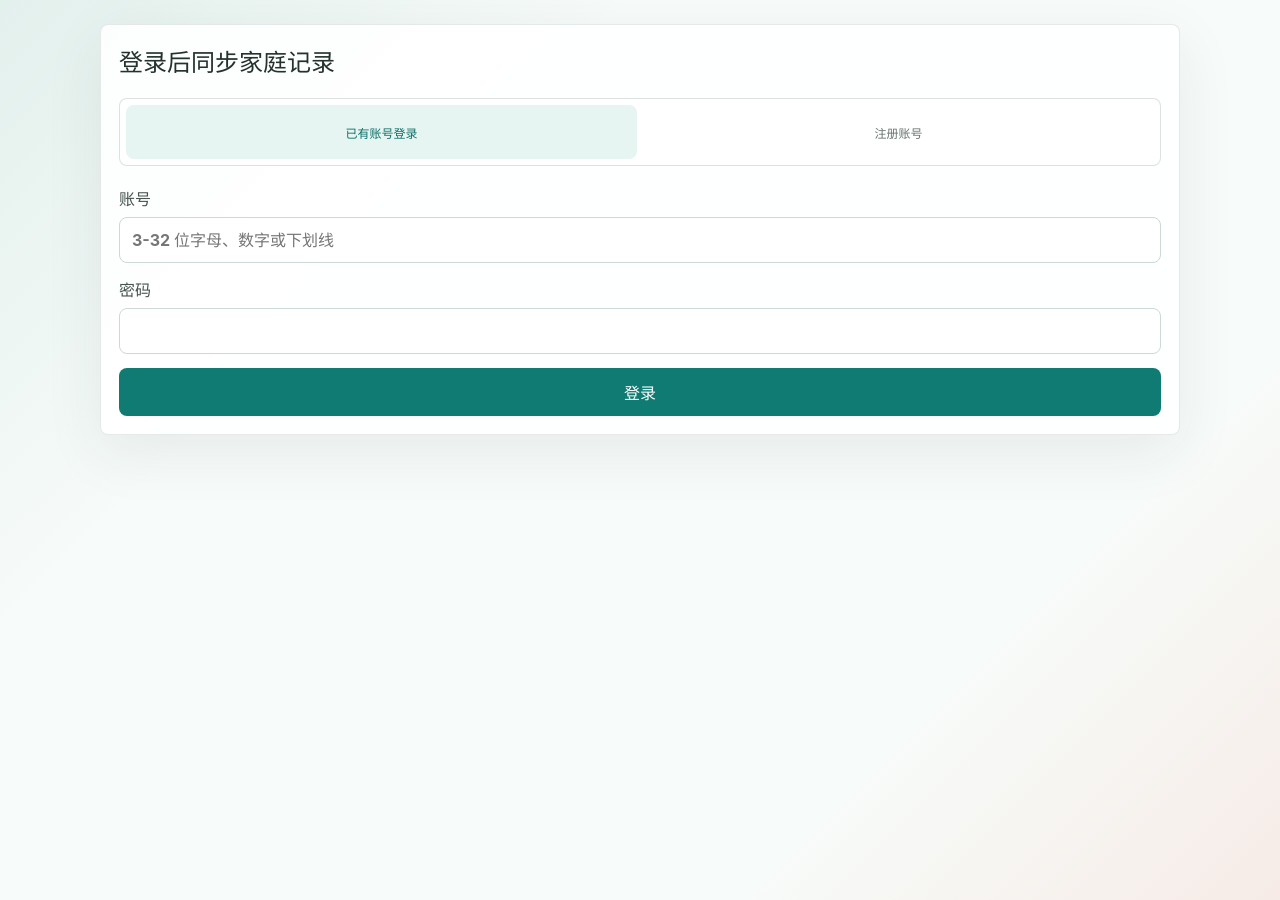
Test: AuthPanel › shows a duplicate account error when registration fails
Step 1. Click the button "注册账号" → (898, 132), box 643,105 -> 1154,159
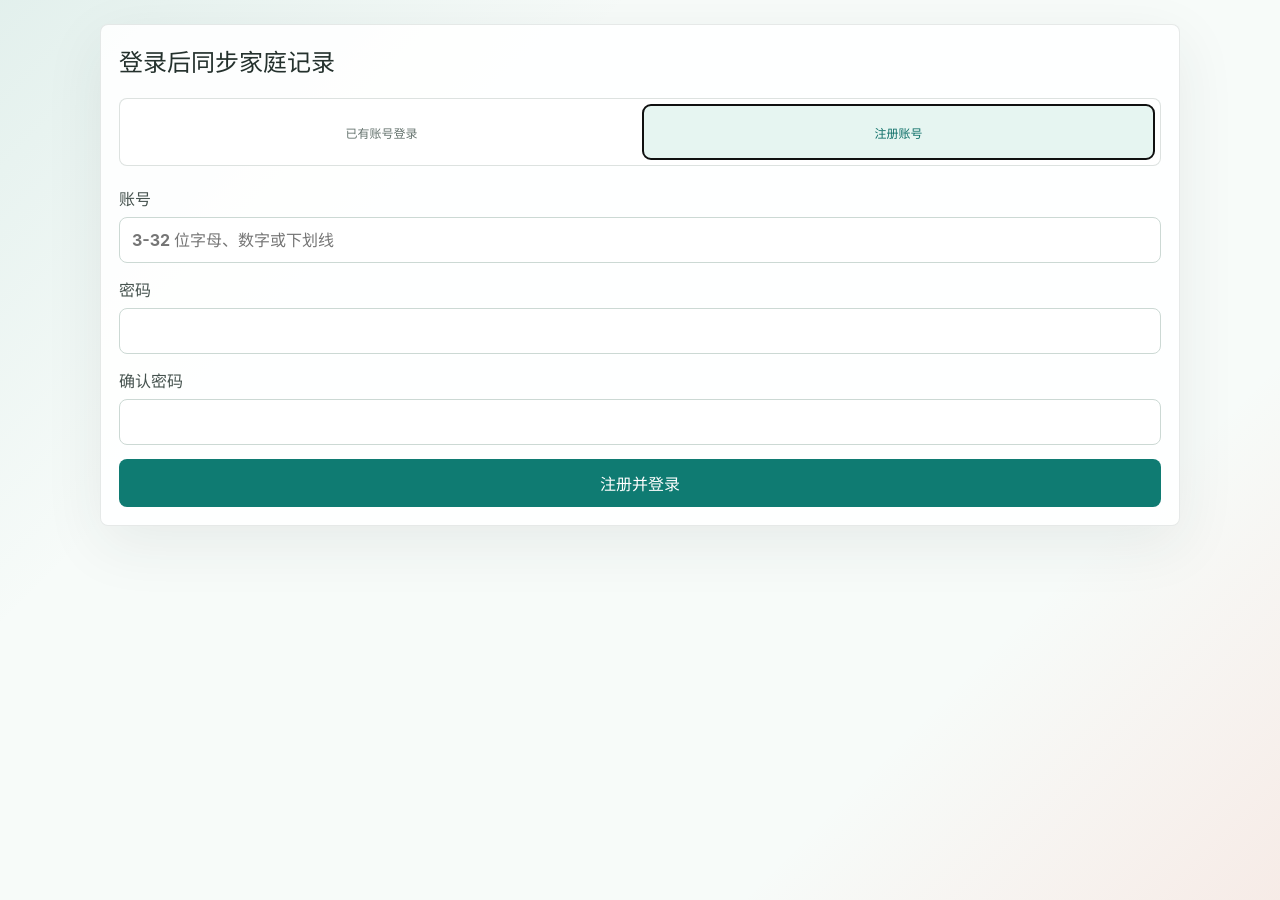
Step 2. Type "baby_home" into the field labelled "账号" → (640, 240), box 119,217 -> 1161,263
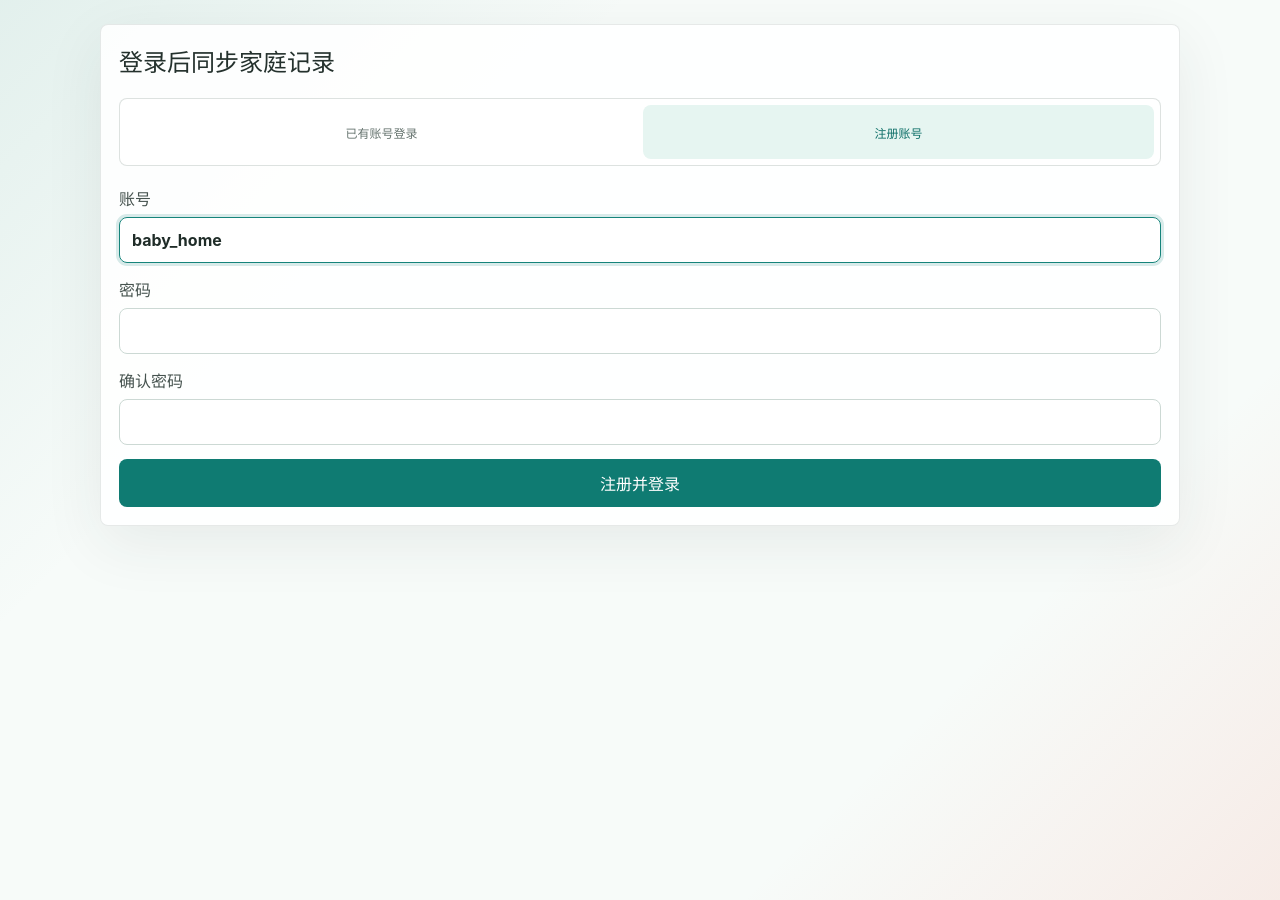
Step 3. Type "password123" into the password field labelled "密码" → (640, 331), box 119,308 -> 1161,354
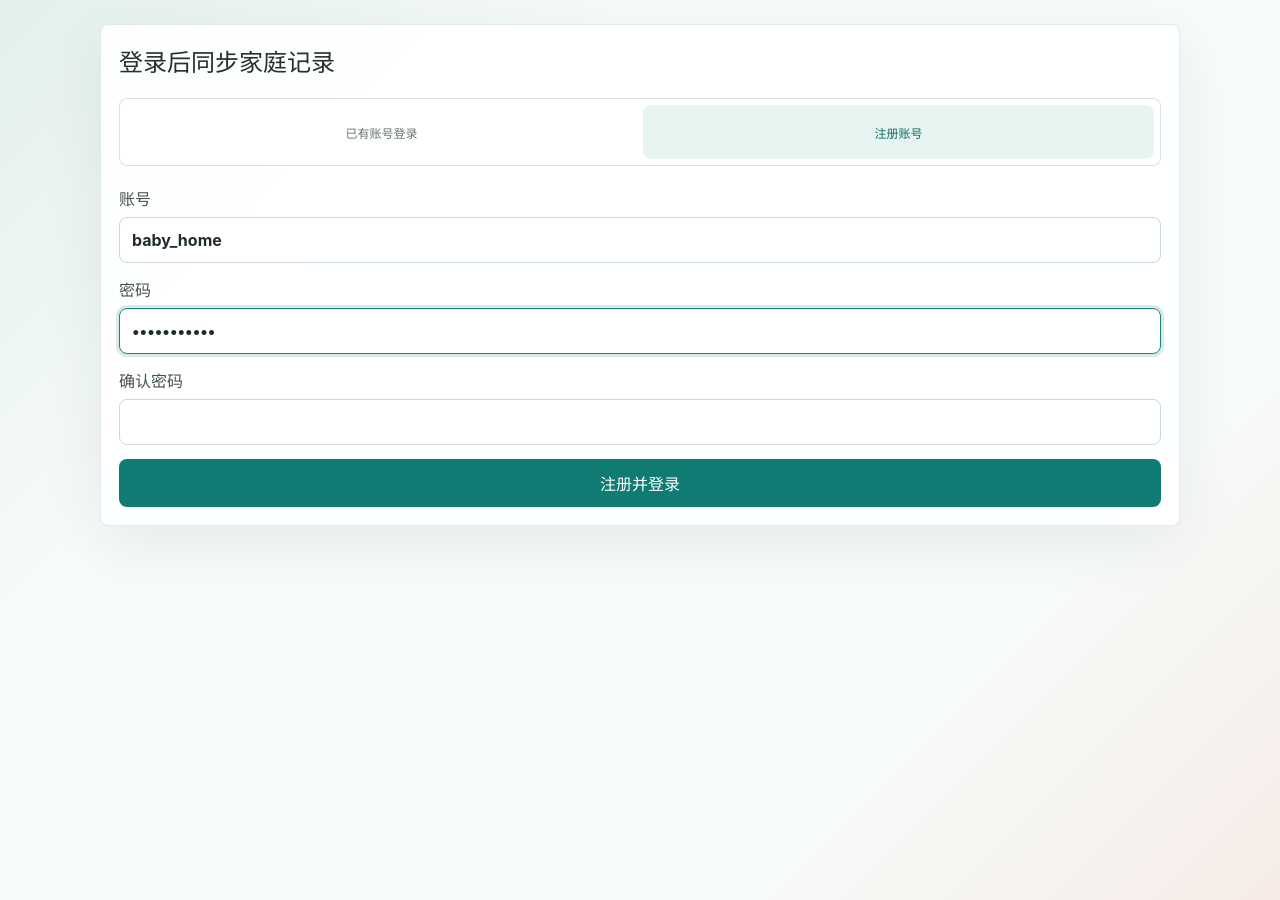
Step 4. Type "password123" into the password field labelled "确认密码" → (640, 422), box 119,399 -> 1161,445
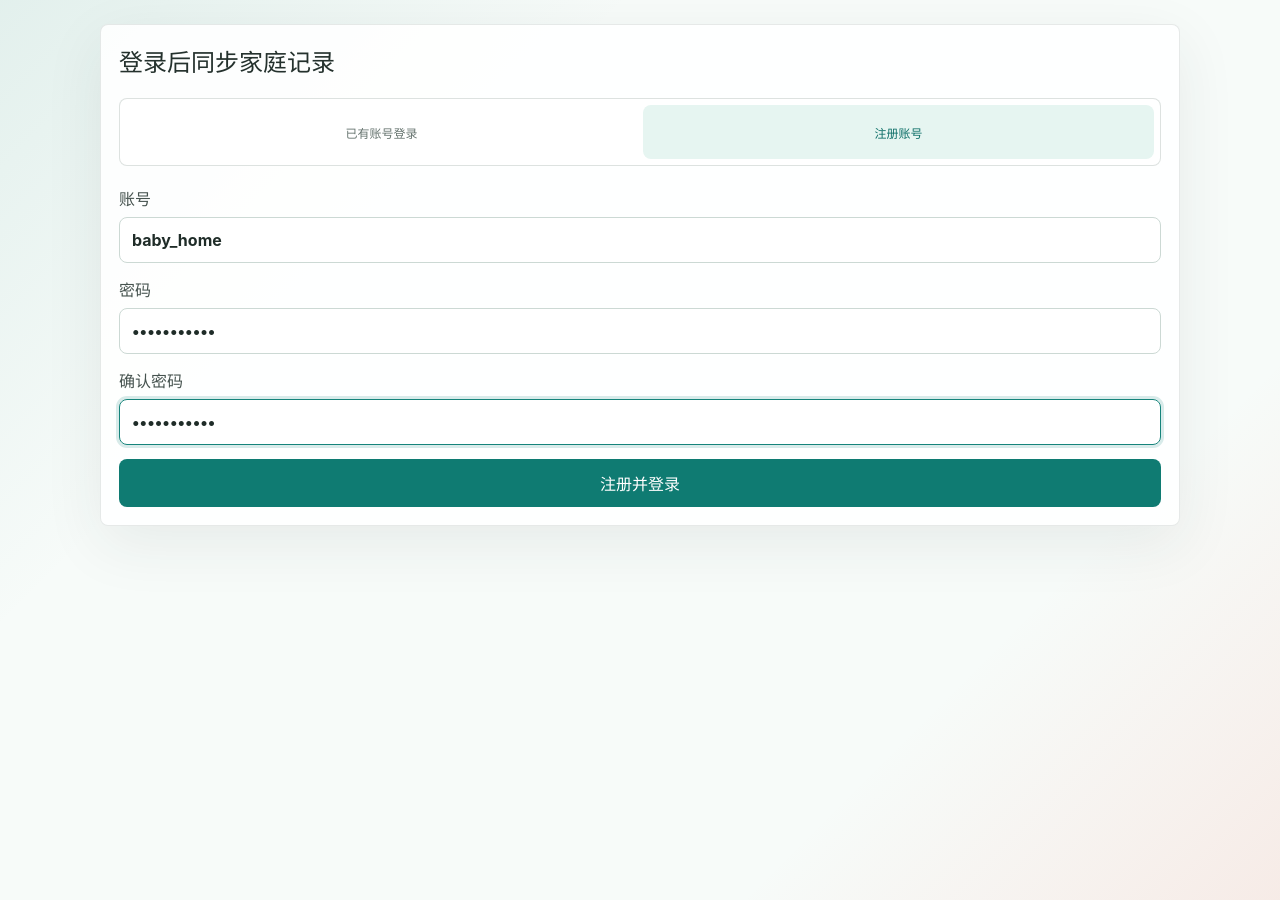
Step 5. Click the button "注册并登录" → (640, 483), box 119,459 -> 1161,507
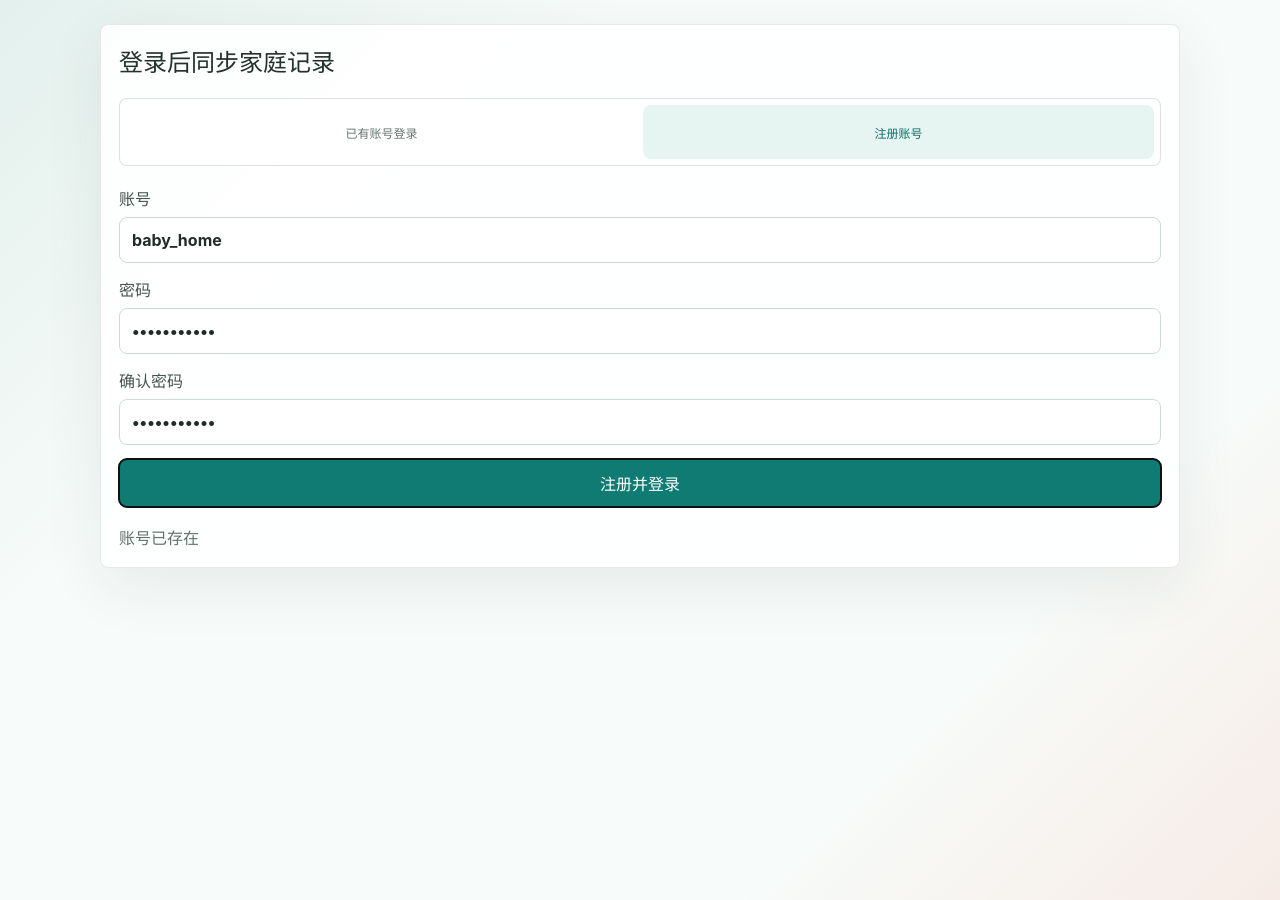
Expected: the text "账号已存在" is shown, 119,528 -> 199,548
